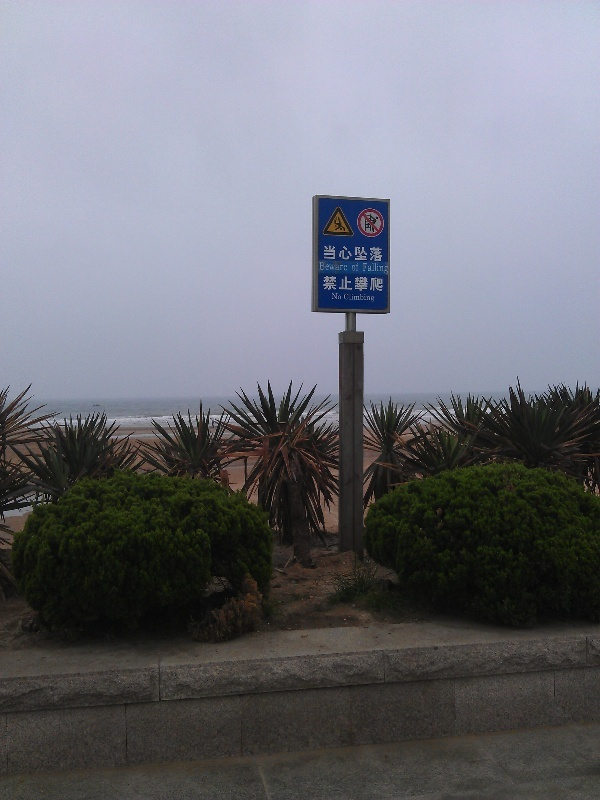text: (337, 244, 352, 263), (353, 244, 368, 263), (369, 244, 384, 263), (337, 275, 352, 293), (353, 275, 368, 293), (369, 275, 384, 293), (323, 275, 336, 293), (324, 244, 336, 263), (369, 263, 384, 275), (321, 262, 336, 273), (353, 293, 368, 303), (337, 262, 349, 273), (362, 263, 368, 275), (353, 262, 360, 272), (345, 293, 352, 303), (369, 293, 375, 303), (385, 263, 389, 275), (337, 292, 342, 301), (332, 292, 336, 301)
